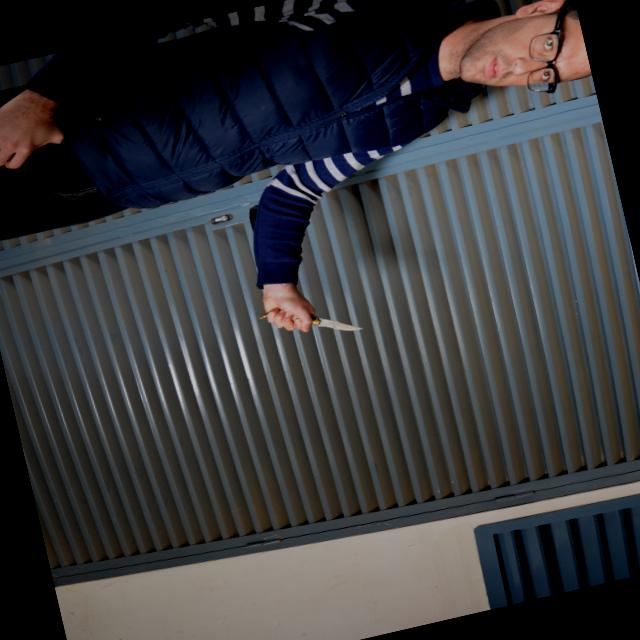knife: (256, 290, 369, 352)
